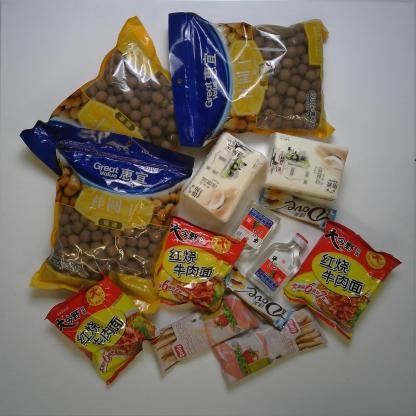Alcohol: (216, 198, 283, 274), (245, 228, 311, 301)
Chocolate: (214, 258, 294, 333), (256, 180, 341, 239)
Dessert: (205, 297, 333, 395), (143, 284, 264, 380)
Dried Food: (17, 12, 211, 214), (22, 115, 198, 320), (165, 7, 339, 153)
Instant Noodles: (280, 215, 403, 341), (45, 270, 160, 391), (141, 210, 252, 318)
Tissue: (183, 131, 269, 227), (258, 130, 353, 204)
